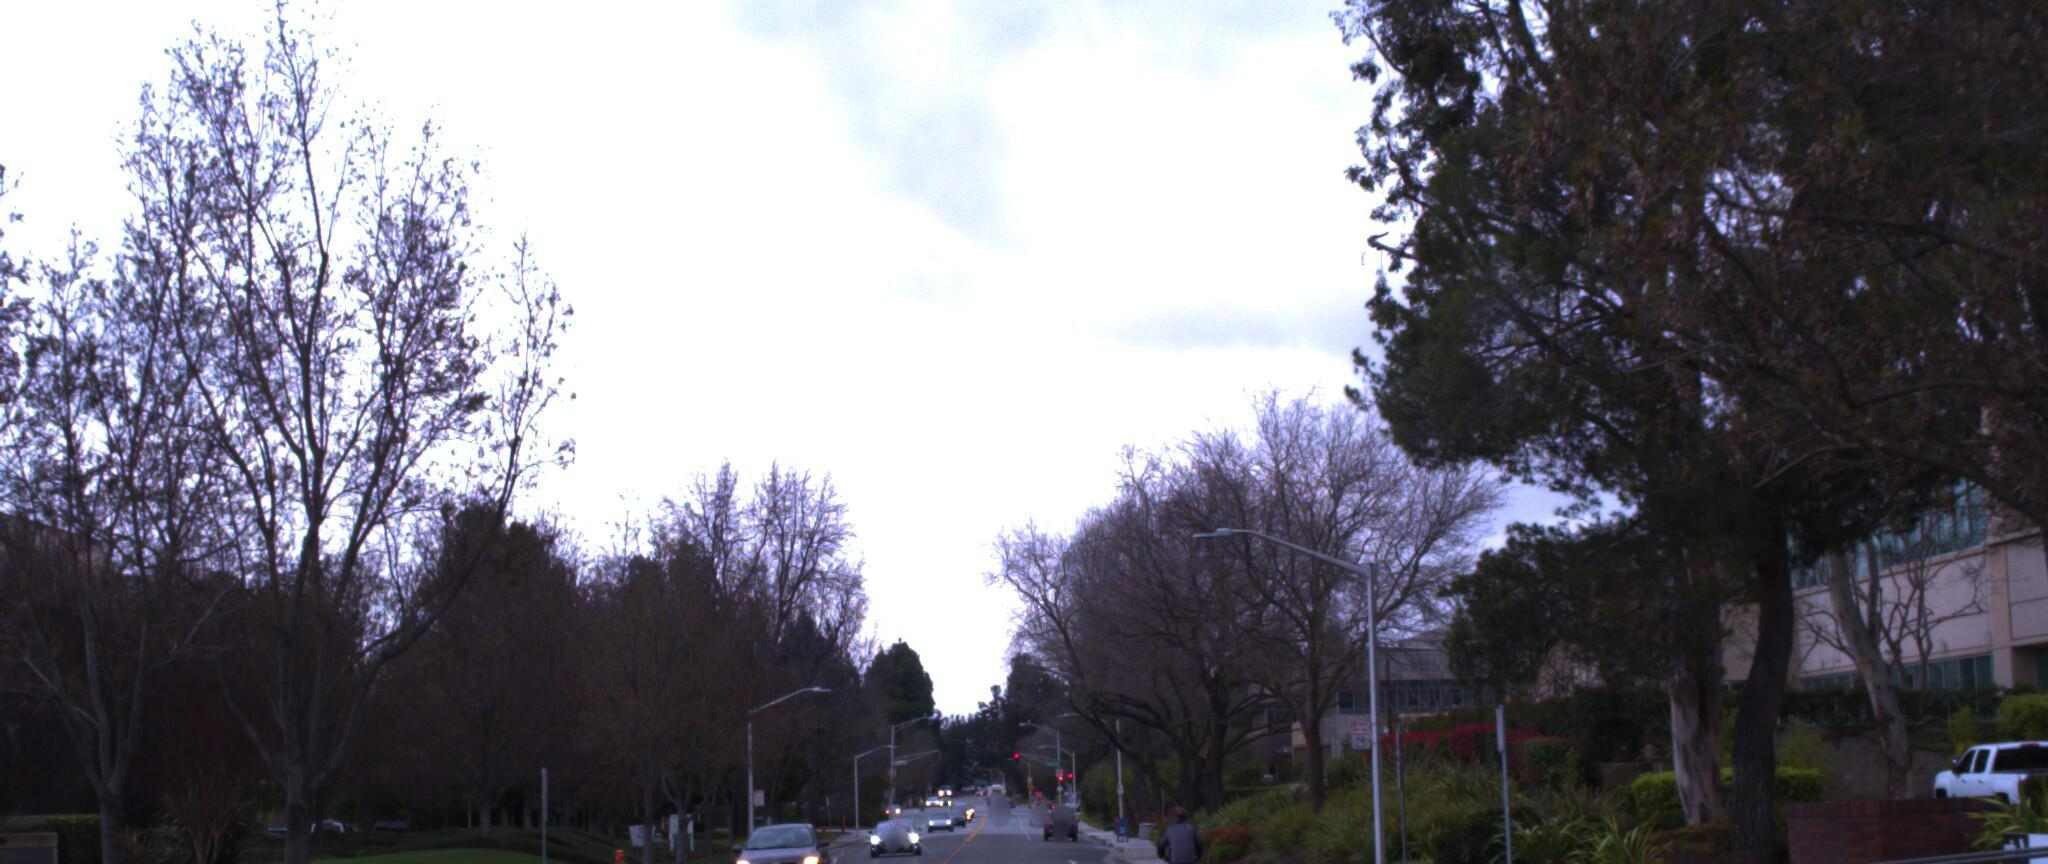bicycle: (1145, 790, 1226, 864)
car: (738, 824, 842, 864)
